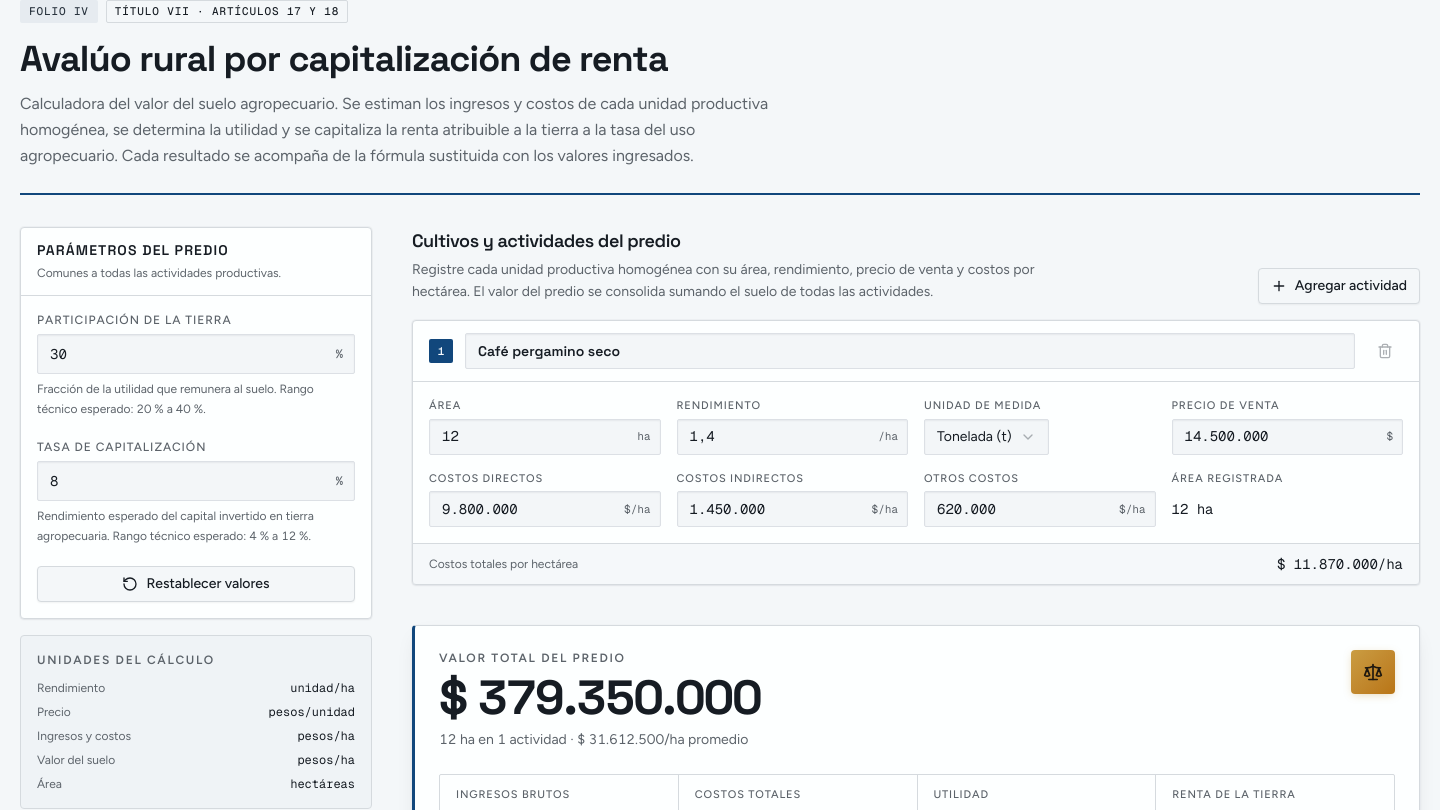
AvaluoRuralPage › restablece los valores iniciales con el botón de reinicio
This screenshot has width=1440, height=810.
Replace the text in the field with test id "rural.cultivo.area_input.1" with "24": (545, 436) [429,418,660,454]
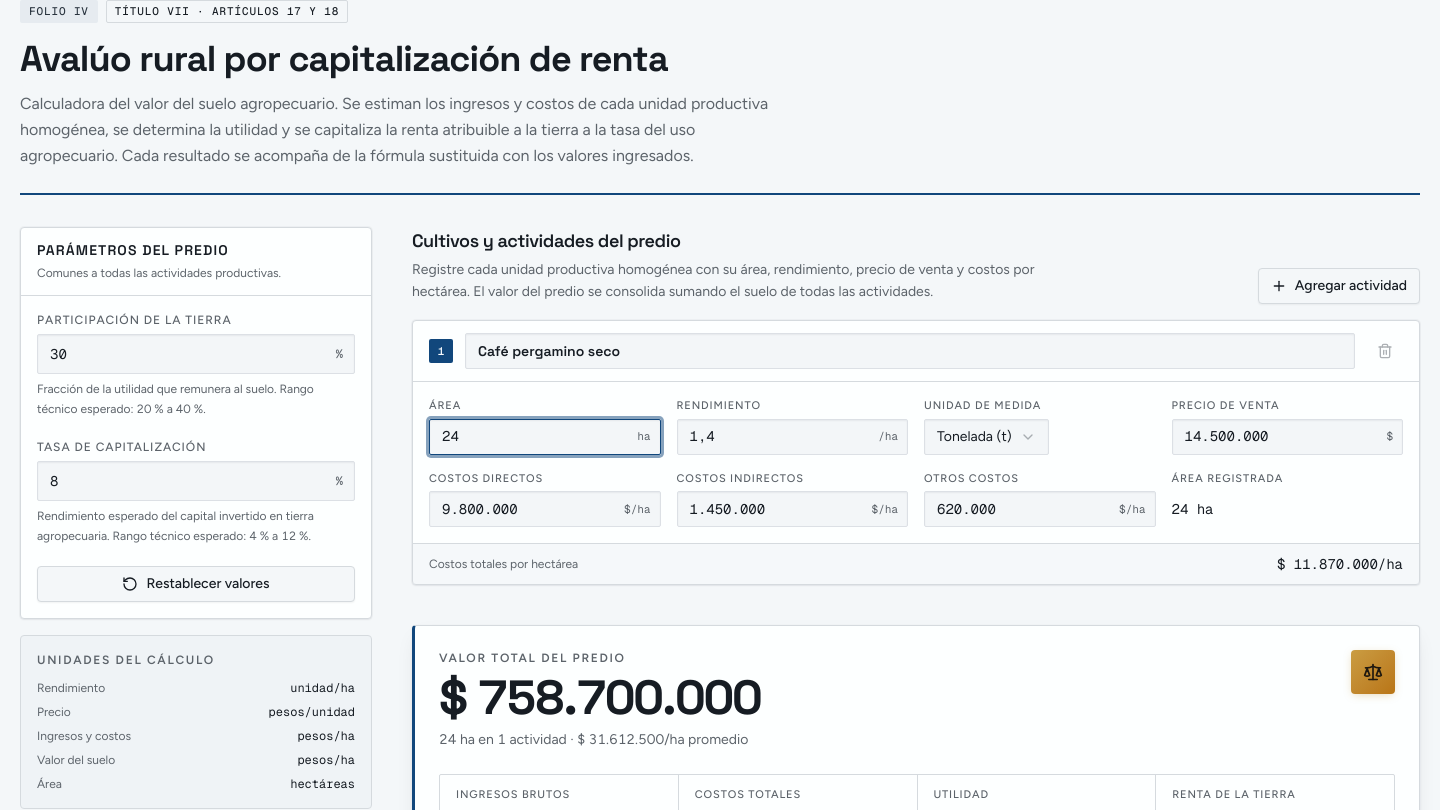
Click the button with test id "rural.reset_button": (196, 584) [37,566,355,602]
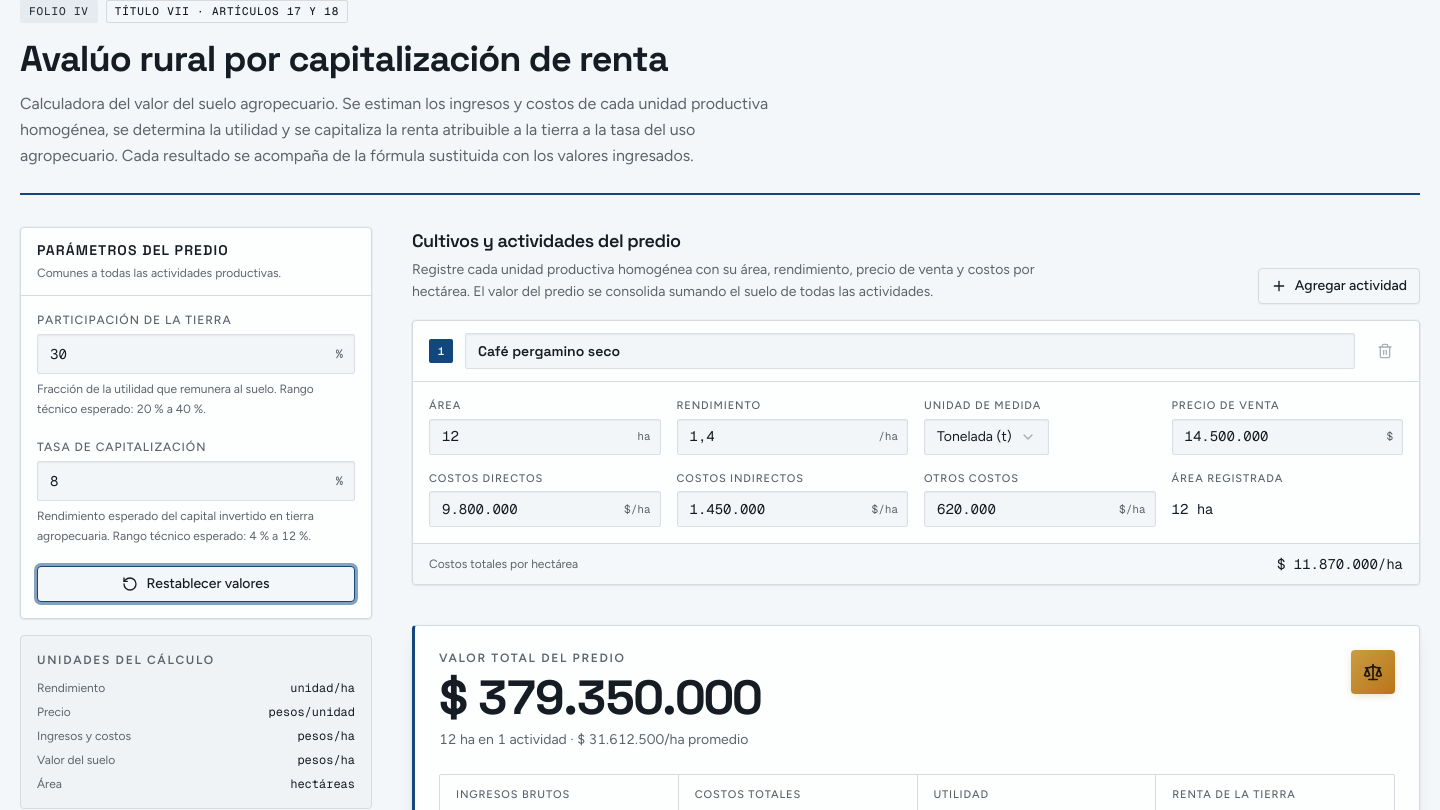
Result: the field with test id "rural.cultivo.area_input.1" holds "12" at [429,418,660,454]
Result: the text "$ 379.350.000" is shown at [439,674,761,722]
